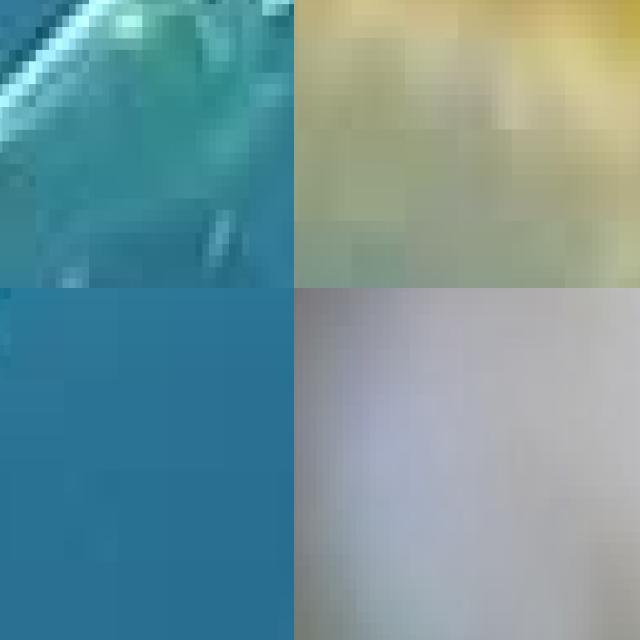fish: (0, 0, 294, 288), (294, 0, 438, 288)
